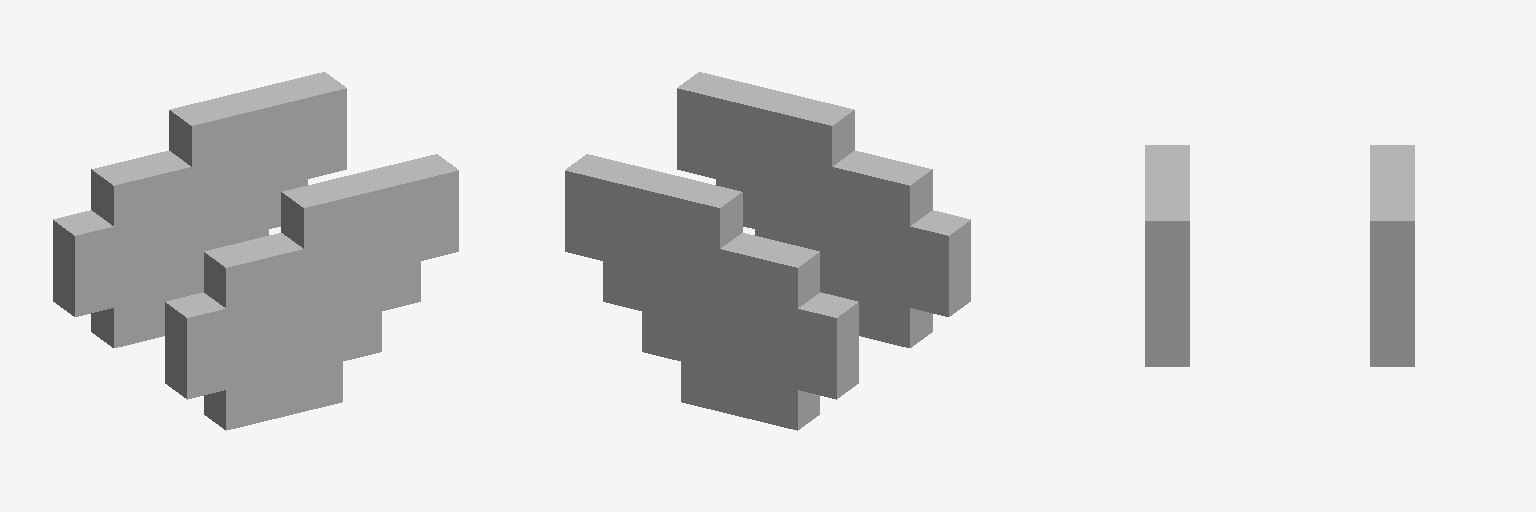
Rendered from WingsDemon.obj.
3 views of the same model, side by side, from view 1: azimuth 30°, elevation 25°; view 2: azimuth 150°, elevation 25°; view 3: azimuth 270°, elevation 25° (orthographic).
Visible parts, largest first — view 1: ObjObject; view 2: ObjObject; view 3: ObjObject.
Part boxes in pixels (x1,y1,x2,y2): ObjObject: (53,72,458,430); ObjObject: (565,72,970,430); ObjObject: (1145,145,1414,366).
Size of the model in its own units: 0.7 by 0.5 by 0.6.